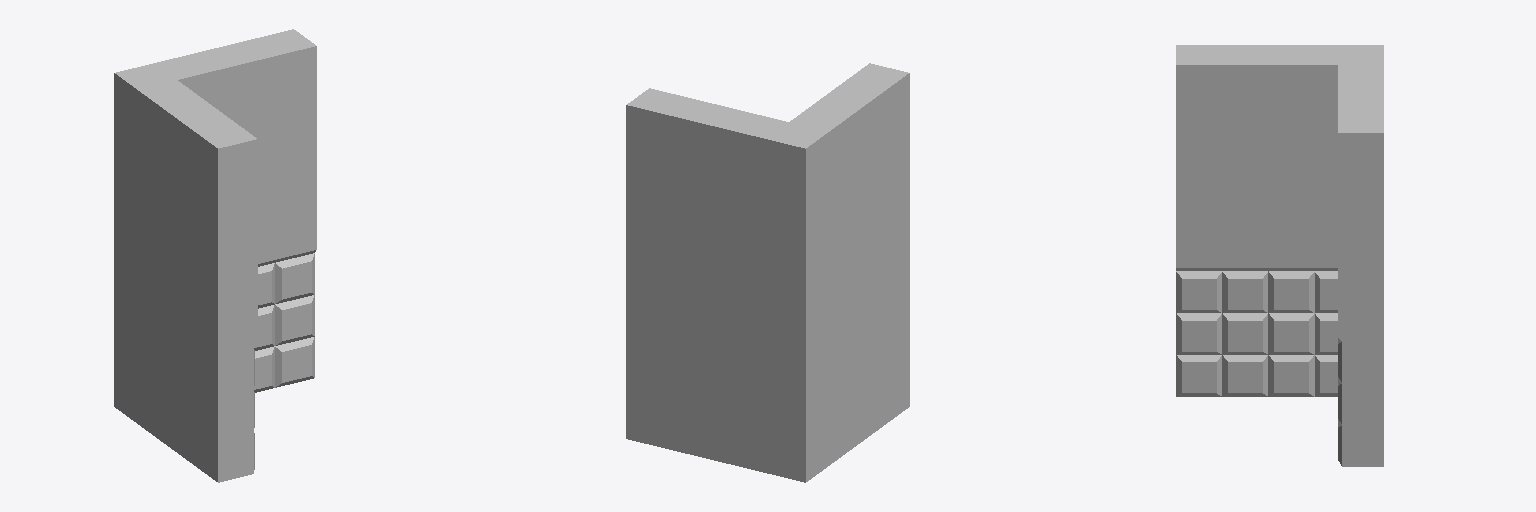
Rendered from wall_tiled_corner_inner.obj.
3 renders of one model, left to right at view 1: azimuth 30°, elevation 25°; view 2: azimuth 150°, elevation 25°; view 3: azimuth 270°, elevation 25°, orthographic.
Visible parts, largest first — view 1: wall_tiled_corner_inner; view 2: wall_tiled_corner_inner; view 3: wall_tiled_corner_inner.
Boxes of the visible parts, box(x1,y1,x2,y2) form: wall_tiled_corner_inner: box(114, 29, 316, 482); wall_tiled_corner_inner: box(626, 63, 909, 482); wall_tiled_corner_inner: box(1176, 45, 1383, 466).
Size of the model in its own units: 2.25 by 4 by 2.25.